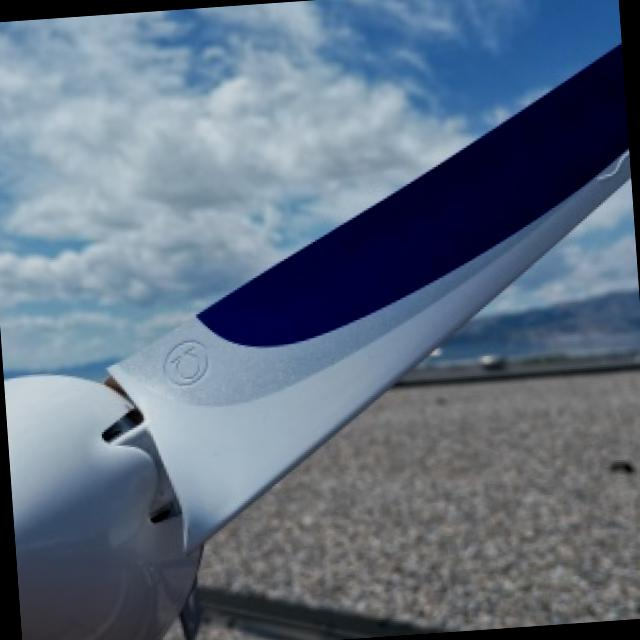healthy: (197, 373, 640, 627)
